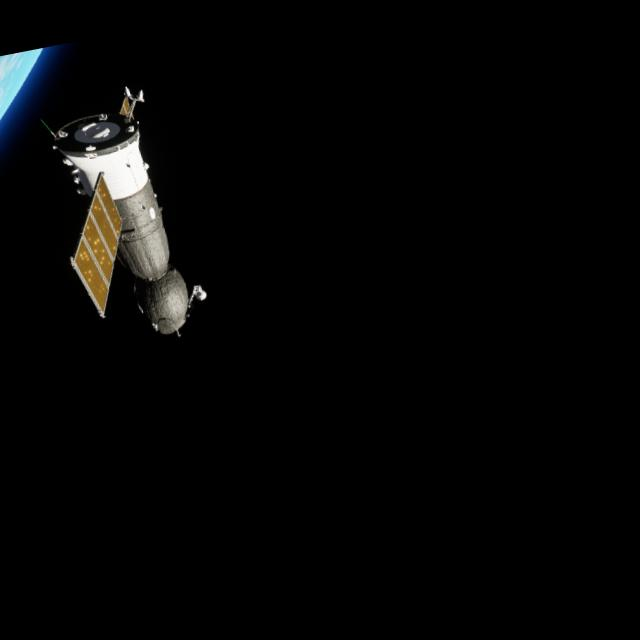Satellites revolving around earth: (36, 77, 215, 357)
